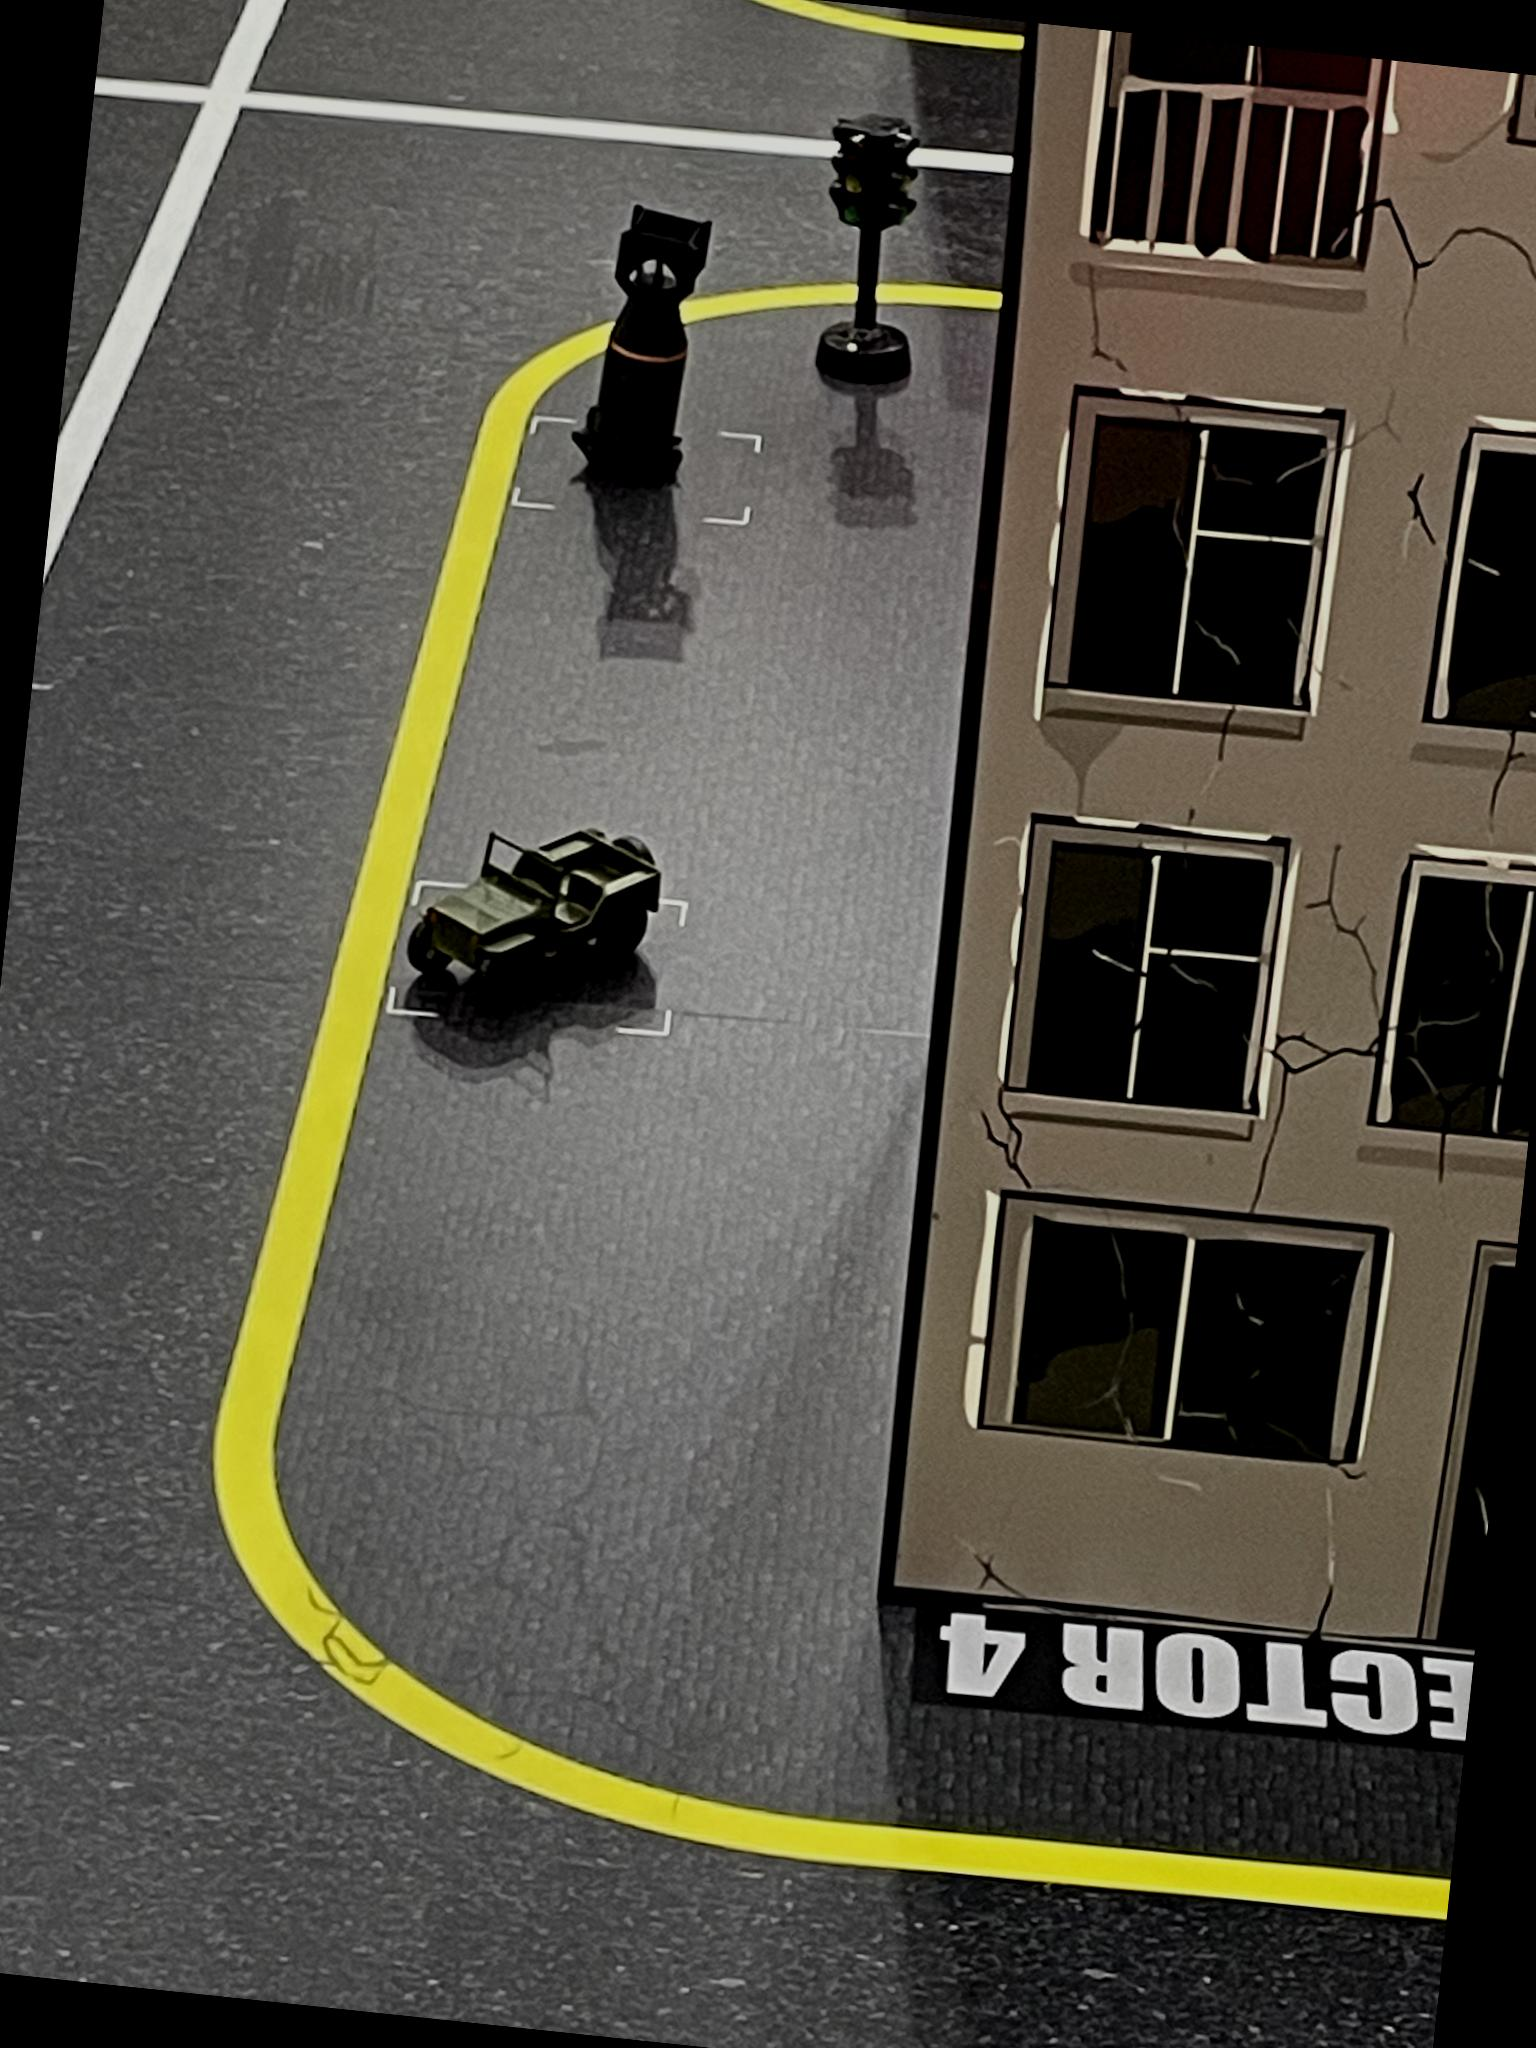Car: (395, 795, 668, 1047)
Missile: (584, 200, 716, 493)
